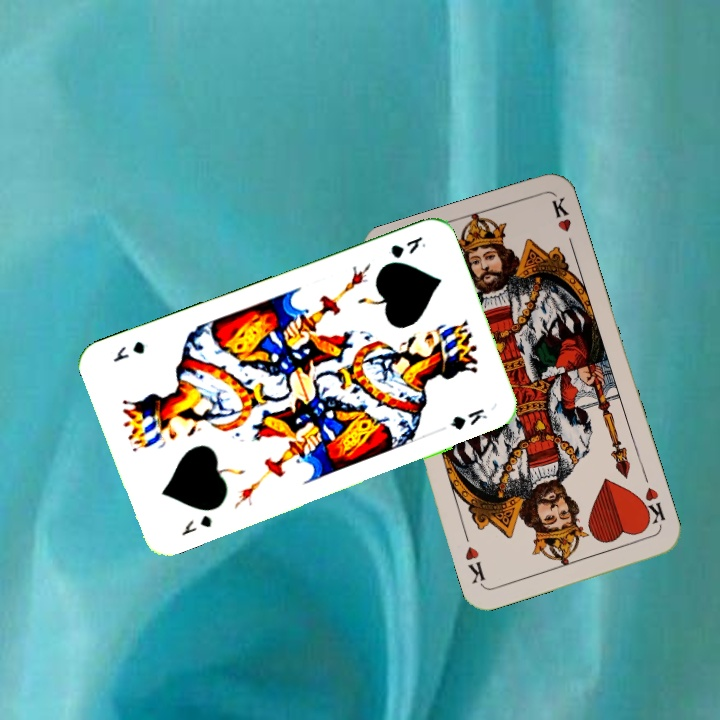GK: (386, 232, 428, 261), (177, 511, 215, 539)
HK: (634, 483, 668, 529)
